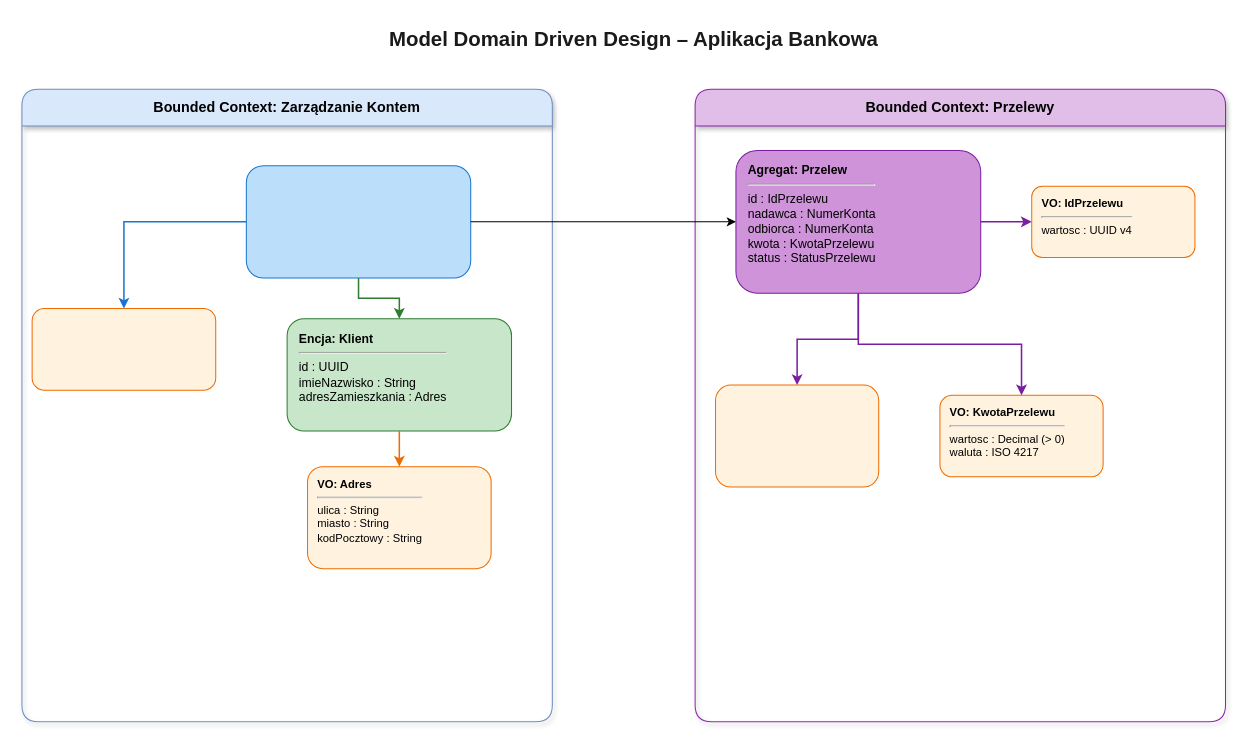
Image size: 1250x747. Some labels were removed from this diagram. The shapes that lost their labels are listed below. From the top down, each one's centre as x and y in pixels, then its label:
At (358,221): "Agregat: KontoBankowe numer : NumerKonta saldo : Decimal wlasciciel : Klient".
At (123,349): "VO: NumerKonta wartosc : String (IBAN: PL + 26 cyfr)".
At (797,435): "VO: StatusPrzelewu PENDING COMPLETED REJECTED".
